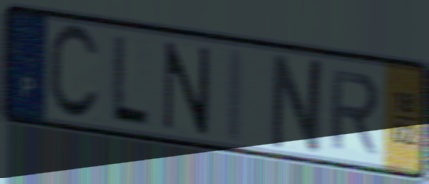C: (45, 21, 102, 124)
I: (224, 44, 247, 147)
L: (107, 31, 152, 130)
N: (268, 51, 330, 159), (160, 38, 214, 138)
R: (327, 67, 382, 158)
